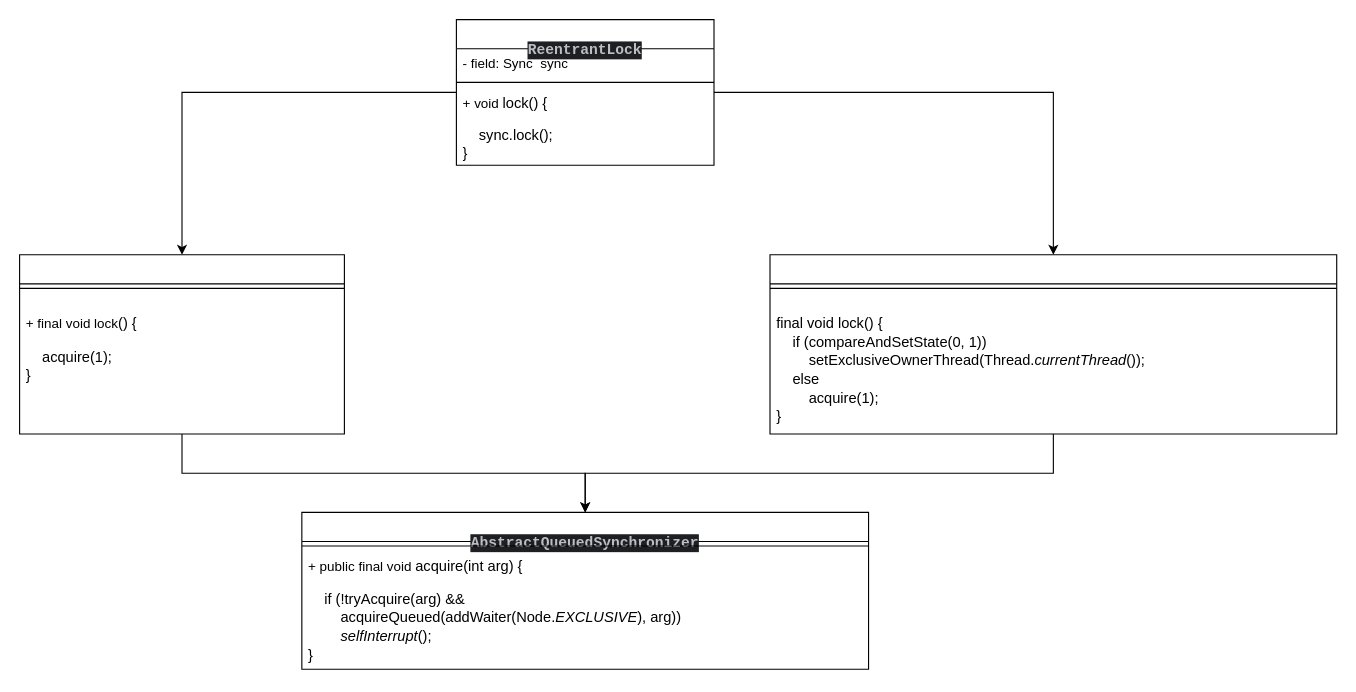
Image size: 1356x692. Some labels were removed from this diagram. Here are the shapes that lost their labels. From the top down, the box of each, then its label:
(18, 254, 344, 434): FairSync
(769, 254, 1337, 434): NonfairSync
